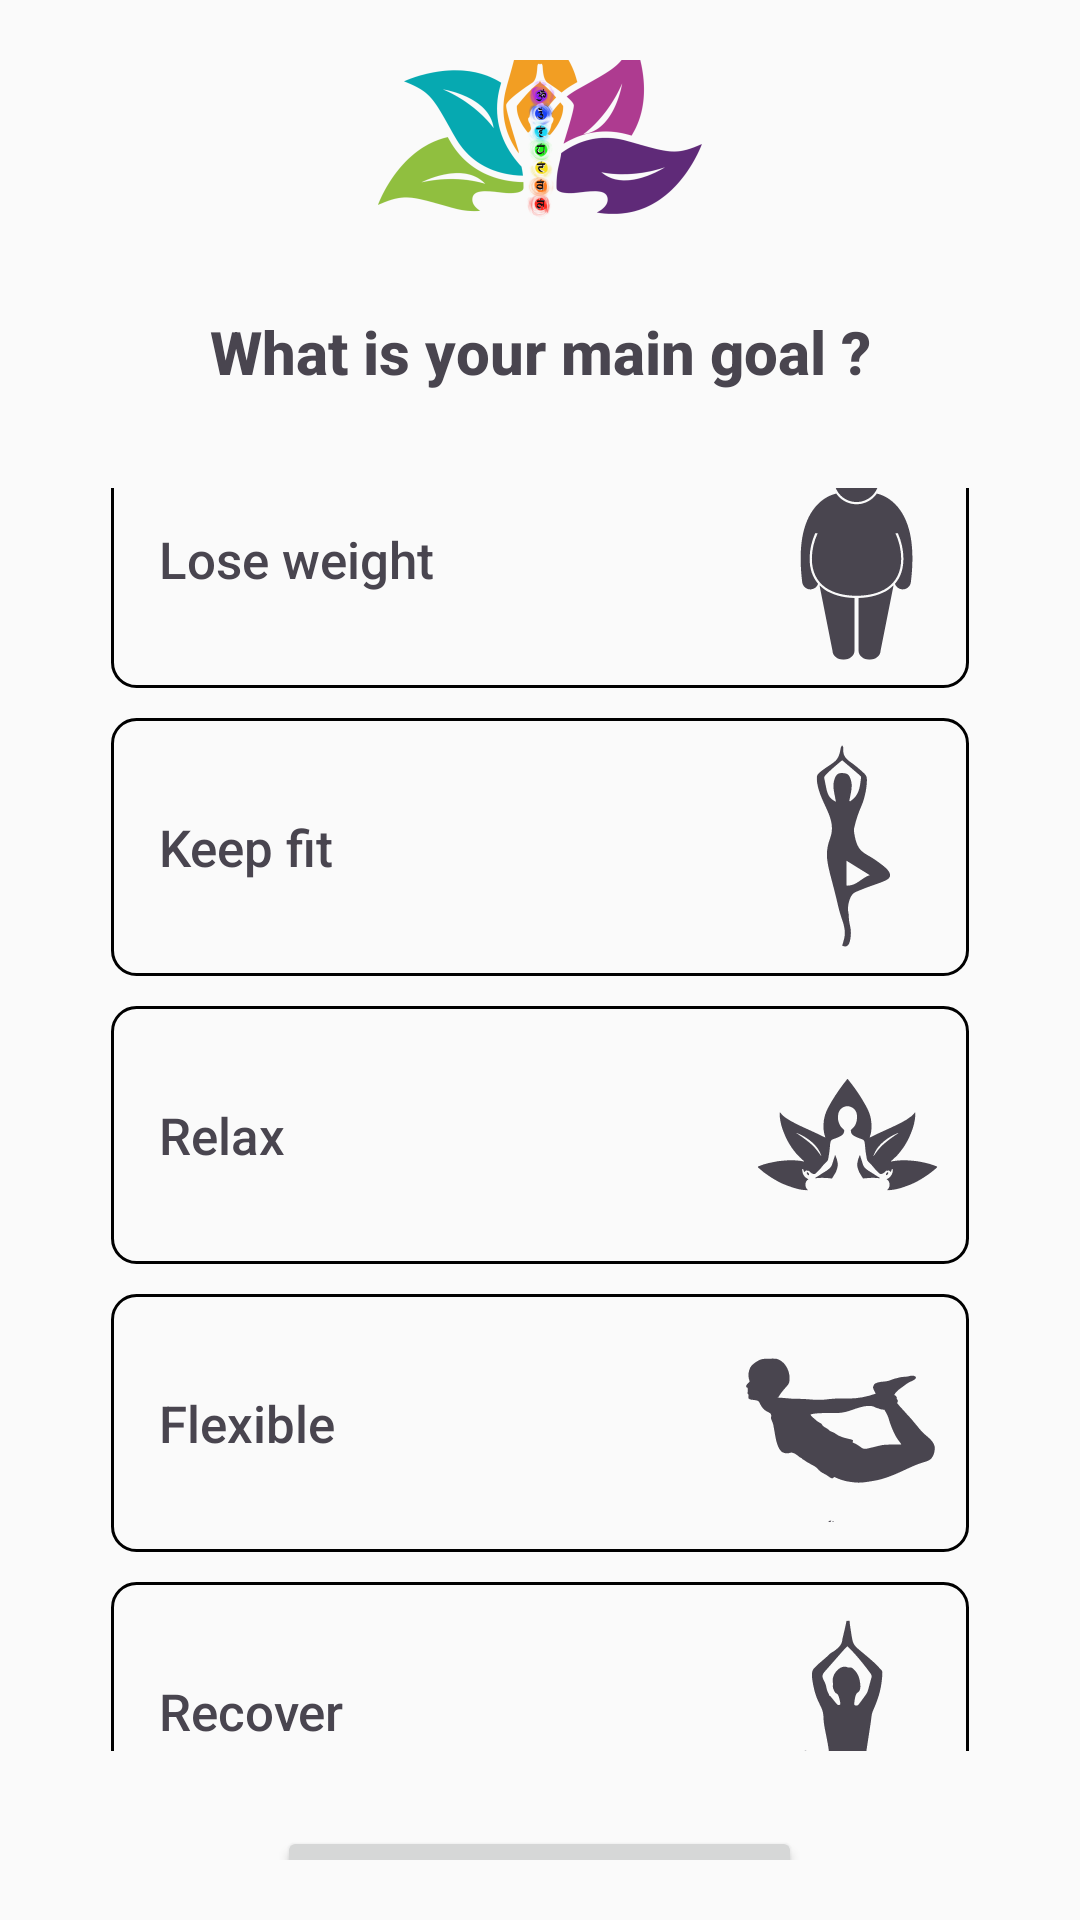

Icons on this 1080px×1920px Android screen, each with the point to tap as (x=x, y=y):
fitt: (x=853, y=846)
flexibel: (x=840, y=1440)
